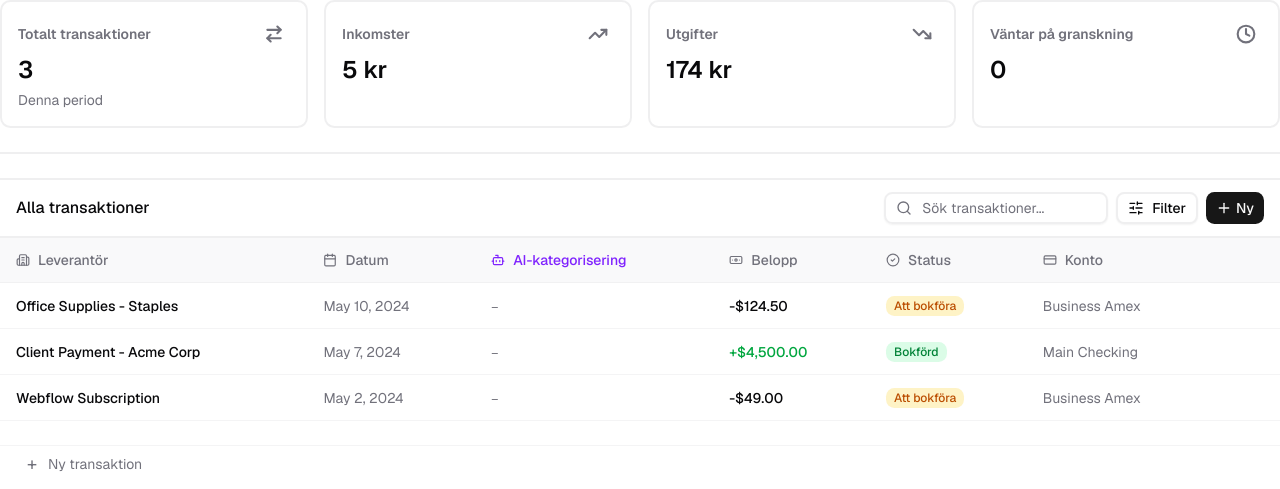
Test: TransactionsTable › search functionality › should search by account name
The image size is (1280, 489).
Type "Main Checking" into the field with placeholder "Sök transaktioner..." at coordinates (996, 208), box [884,192,1108,224]
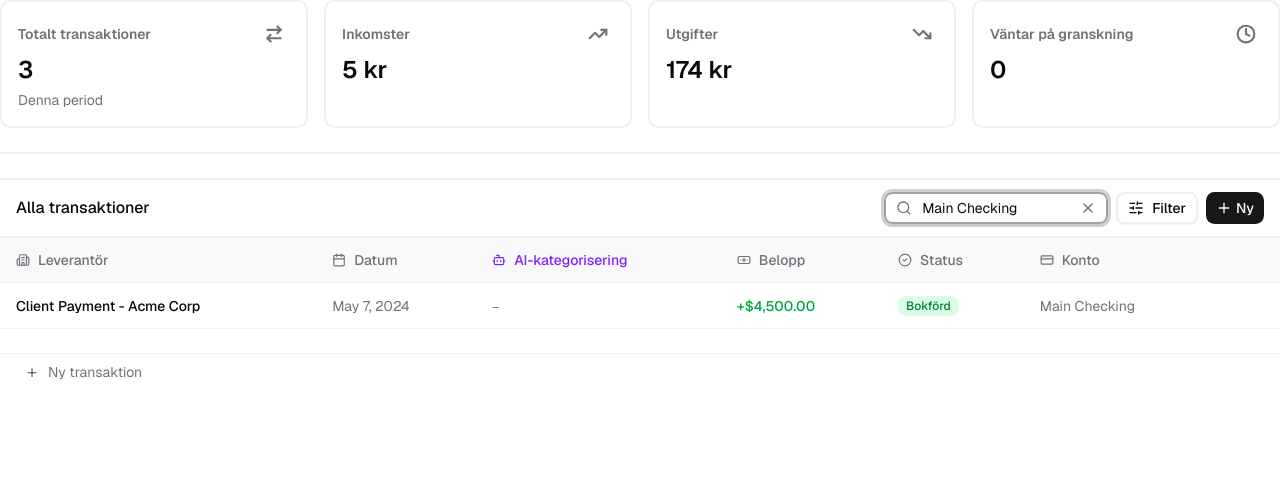
Expected: the text "Client Payment - Acme Corp" is shown, [16,296,200,314]
Result: the text "Webflow Subscription" is gone
